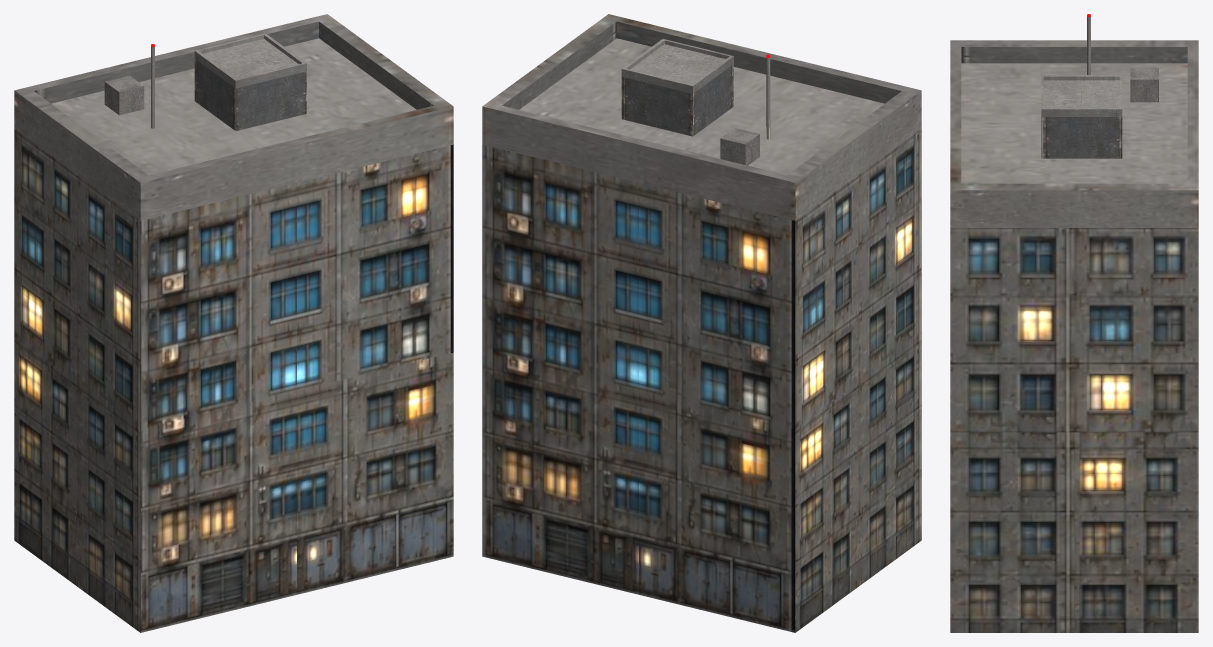
Rendered from cyberpunk-residential-building-5.glb.
3 renders of one model, left to right at view 1: azimuth 30°, elevation 25°; view 2: azimuth 150°, elevation 25°; view 3: azimuth 270°, elevation 25°, orthographic.
Visible parts, largest first — view 1: cyberpunk-residential-building-5; view 2: cyberpunk-residential-building-5; view 3: cyberpunk-residential-building-5.
Part boxes in pixels (x1,y1,x2,y2): cyberpunk-residential-building-5: [14, 14, 453, 632]; cyberpunk-residential-building-5: [482, 14, 921, 632]; cyberpunk-residential-building-5: [950, 14, 1198, 632].
Bounding box in the file's own units: 39.07 × 61.57 × 27.29.
Materials: 2 (1 with a texture image).
